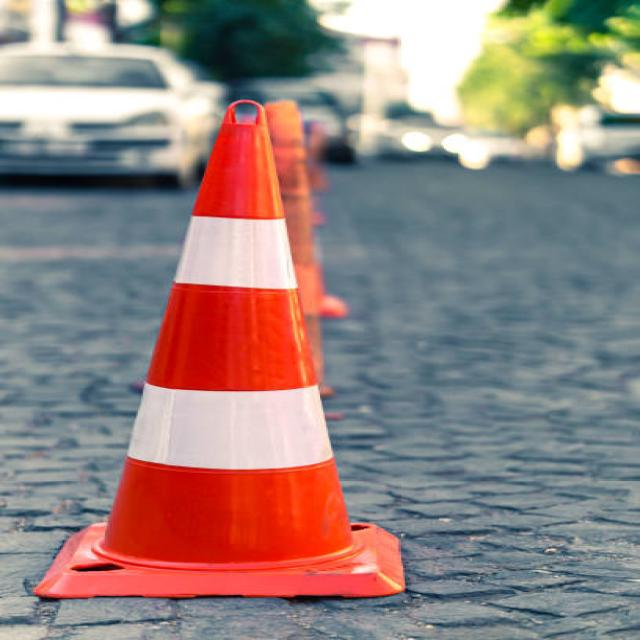Traffic Cone: (42, 66, 423, 610)
